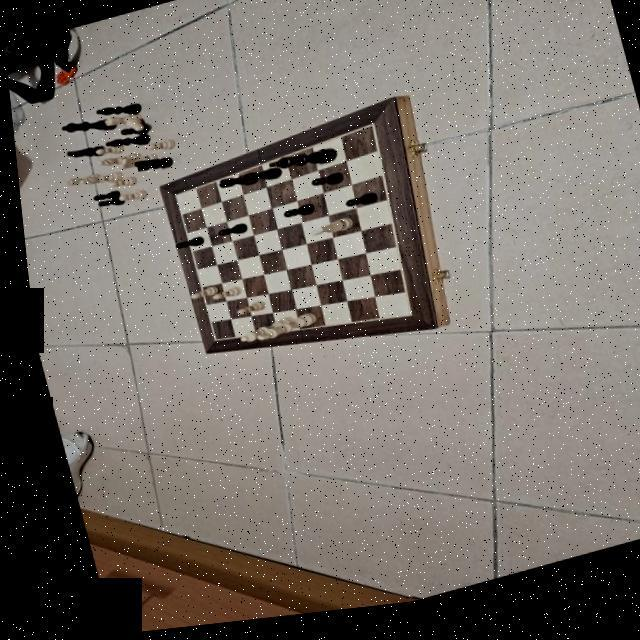chess-table-corners: (395, 318, 407, 328), (362, 128, 374, 138), (166, 195, 176, 202), (204, 340, 211, 348)
